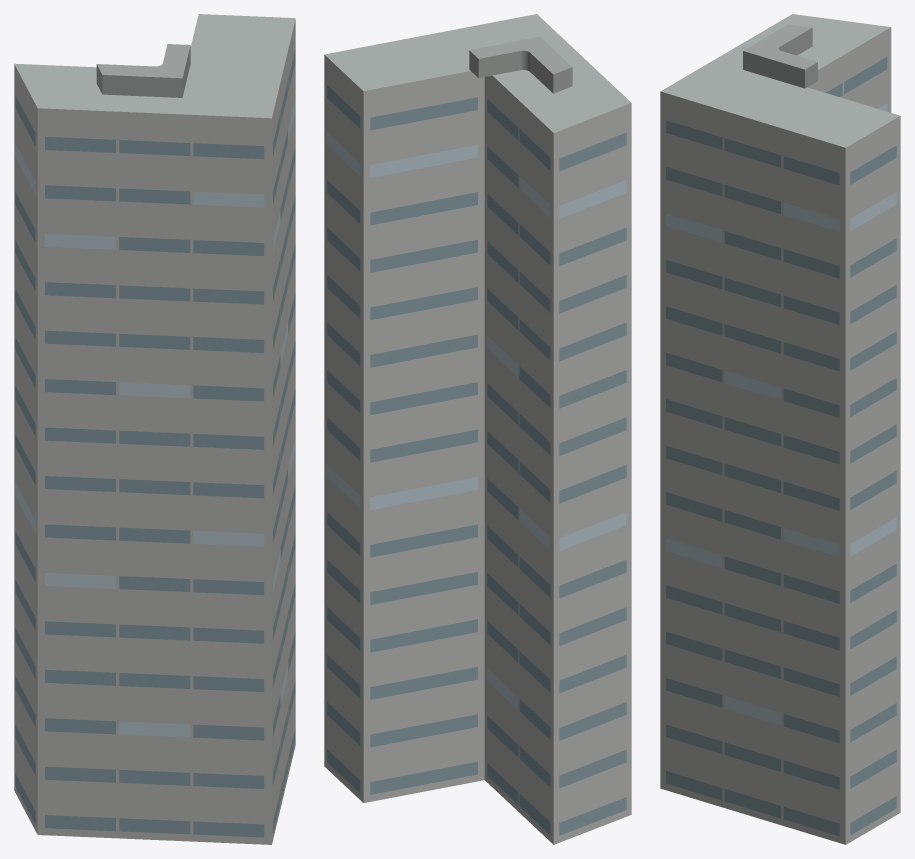
Rendered from fallback-jamsil-ricenz-247.glb.
The picture shows the model from 3 angles, left to right: view 1: azimuth 30°, elevation 25°; view 2: azimuth 150°, elevation 25°; view 3: azimuth 270°, elevation 25°; orthographic projection. The views are drawn at different scales.
Parts seen in each view (by area): view 1: fallback-jamsil-ricenz-247; view 2: fallback-jamsil-ricenz-247; view 3: fallback-jamsil-ricenz-247.
Part boxes in pixels (x1=…): fallback-jamsil-ricenz-247: x1=14, y1=14, x2=295, y2=844; fallback-jamsil-ricenz-247: x1=324, y1=14, x2=631, y2=844; fallback-jamsil-ricenz-247: x1=660, y1=14, x2=900, y2=844.
Size of the model in its own units: 36.49 by 91 by 27.65.
